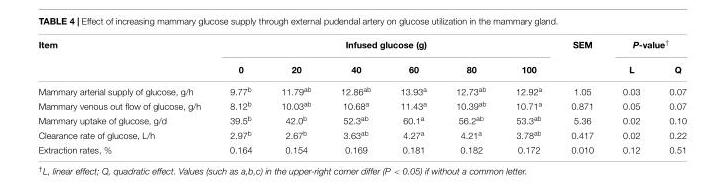table: (37, 37, 686, 154)
table column: (37, 37, 214, 154), (440, 37, 500, 154), (266, 37, 325, 154), (325, 37, 384, 154), (384, 37, 440, 154), (500, 37, 555, 154), (214, 37, 266, 154), (555, 37, 607, 154), (607, 37, 654, 154), (654, 37, 686, 154)
table column header: (37, 37, 686, 79)
table row: (37, 56, 686, 79), (37, 37, 686, 56), (37, 79, 686, 97), (37, 97, 686, 112), (37, 126, 686, 141), (37, 112, 686, 126), (37, 141, 686, 154)
table spanning cell: (37, 37, 214, 79), (214, 37, 555, 56), (555, 37, 607, 79), (607, 37, 686, 56)
